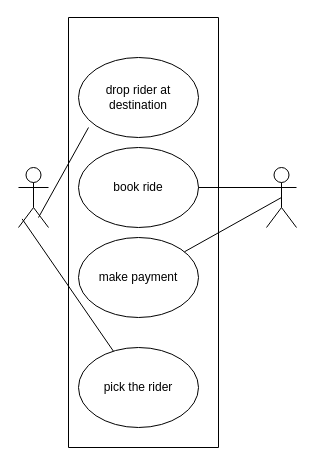
Image size: 314x465. Some labels were removed from this diagram. The centre of each missing label's shape, as x and y in pixels:
Driver: the point at 33,197
Rider: the point at 281,197
